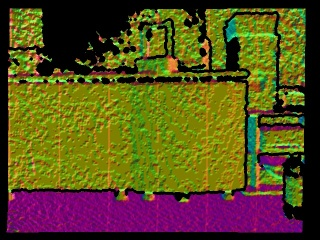station: (135, 18, 179, 73)
